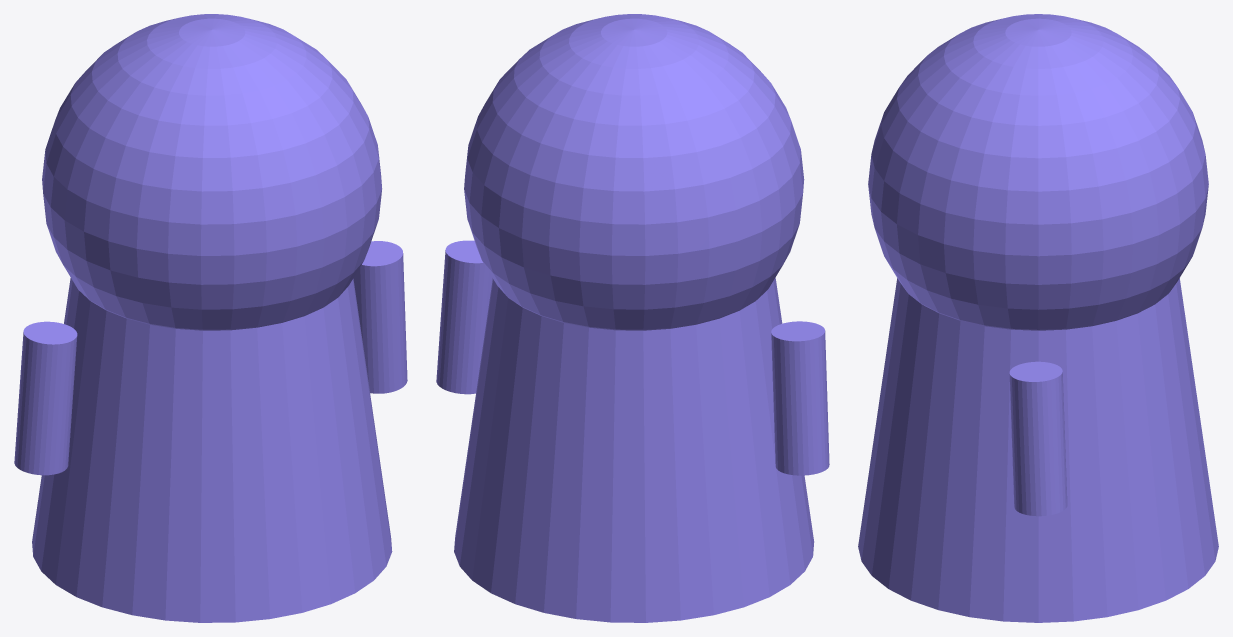
The model's file is player.obj.
3 views of the same model, side by side, from view 1: azimuth 30°, elevation 25°; view 2: azimuth 150°, elevation 25°; view 3: azimuth 270°, elevation 25° (orthographic).
Parts seen in each view (by area): view 1: 球.002; view 2: 球.002; view 3: 球.002.
Part boxes in pixels (x1,y1,x2,y2): 球.002: (14,14,407,622); 球.002: (436,14,829,622); 球.002: (858,14,1218,622).
Bounding box in the file's own units: 1.15 × 1.47 × 0.9327.
1 material, 1 textured.
